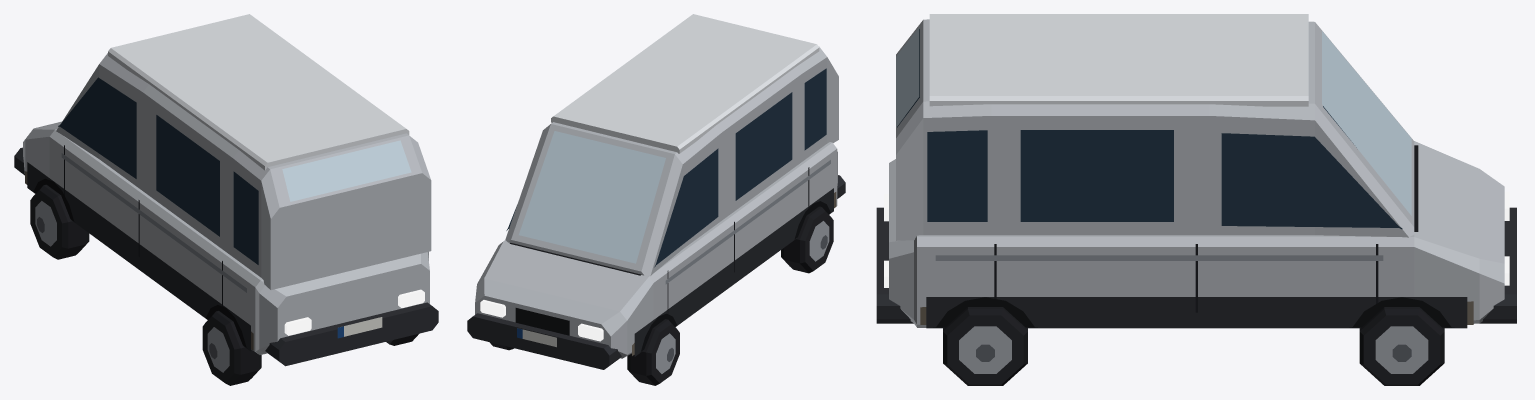
Rendered from minivan_lo.glb.
3 views of the same model, side by side, from view 1: azimuth 30°, elevation 25°; view 2: azimuth 150°, elevation 25°; view 3: azimuth 270°, elevation 25° (orthographic). The views are drawn at different scales.
Visible parts, largest first — view 1: body.005, wheel_RL.005, wheel_FL.005; view 2: body.005, wheel_FL.005, wheel_RL.005; view 3: body.005, wheel_FR.005, wheel_RR.005.
Part boxes in pixels (x1=…): body.005: x1=14, y1=14, x2=438, y2=366; wheel_RL.005: x1=202, y1=311, x2=261, y2=385; wheel_FL.005: x1=30, y1=184, x2=89, y2=259; body.005: x1=467, y1=14, x2=845, y2=369; wheel_FL.005: x1=627, y1=319, x2=679, y2=385; wheel_RL.005: x1=781, y1=206, x2=833, y2=273; body.005: x1=876, y1=14, x2=1516, y2=328; wheel_FR.005: x1=1359, y1=307, x2=1444, y2=385; wheel_RR.005: x1=943, y1=307, x2=1027, y2=385.
Size of the model in its own units: 2.26 by 2.46 by 5.2.
